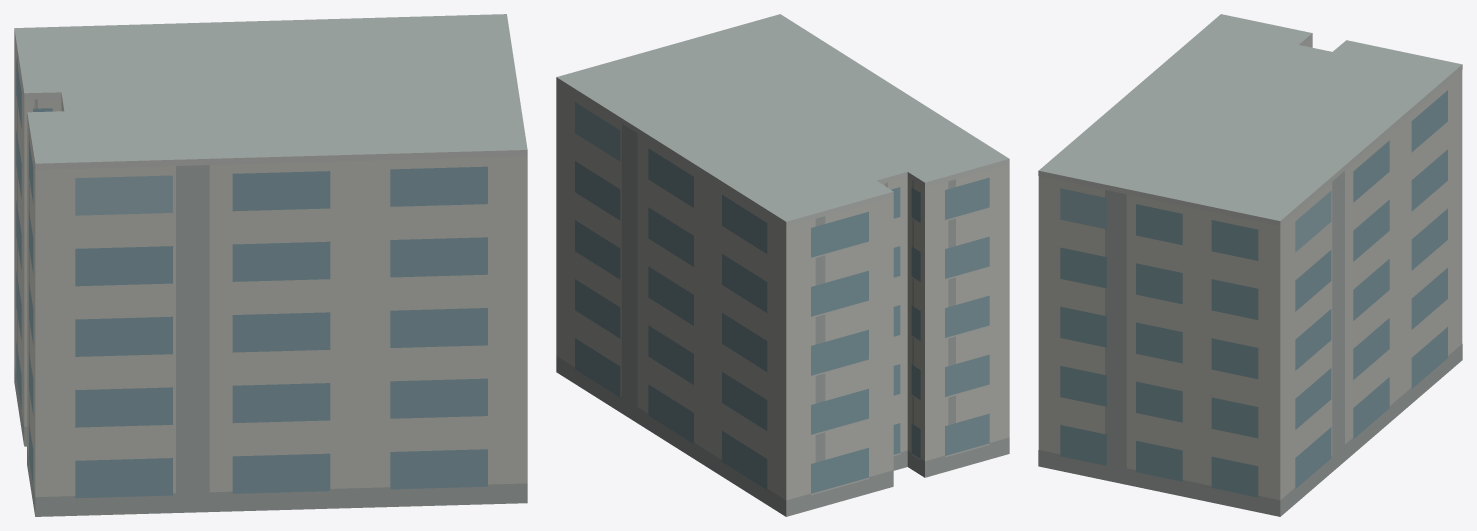
Rendered from survey-upis-32983624.glb.
3 renders of one model, left to right at view 1: azimuth 30°, elevation 25°; view 2: azimuth 150°, elevation 25°; view 3: azimuth 270°, elevation 25°, orthographic. The views are drawn at different scales.
Visible parts, largest first — view 1: survey-upis-32983624.tmp; view 2: survey-upis-32983624.tmp; view 3: survey-upis-32983624.tmp.
Part boxes in pixels (left/top/right/bottom): survey-upis-32983624.tmp: left=14, top=14, right=527, bottom=516; survey-upis-32983624.tmp: left=556, top=14, right=1009, bottom=516; survey-upis-32983624.tmp: left=1038, top=14, right=1462, bottom=516.
Bounding box in the file's own units: 20.74 × 13.8 × 17.94.
